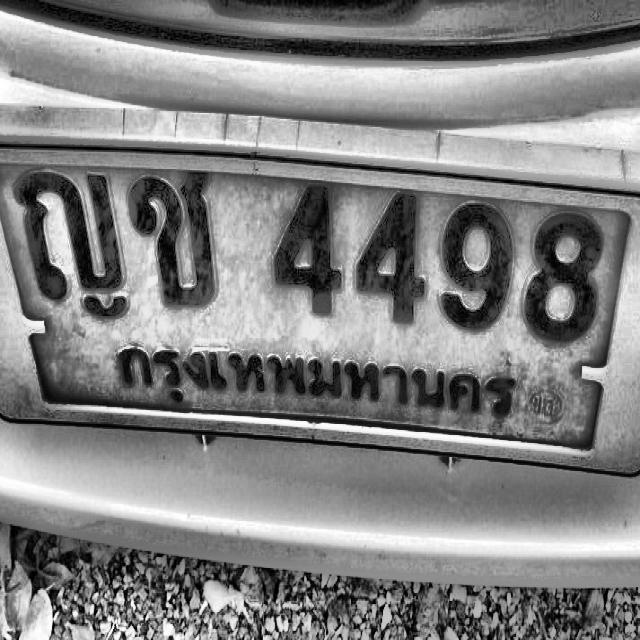license-plate: (0, 114, 640, 488)
